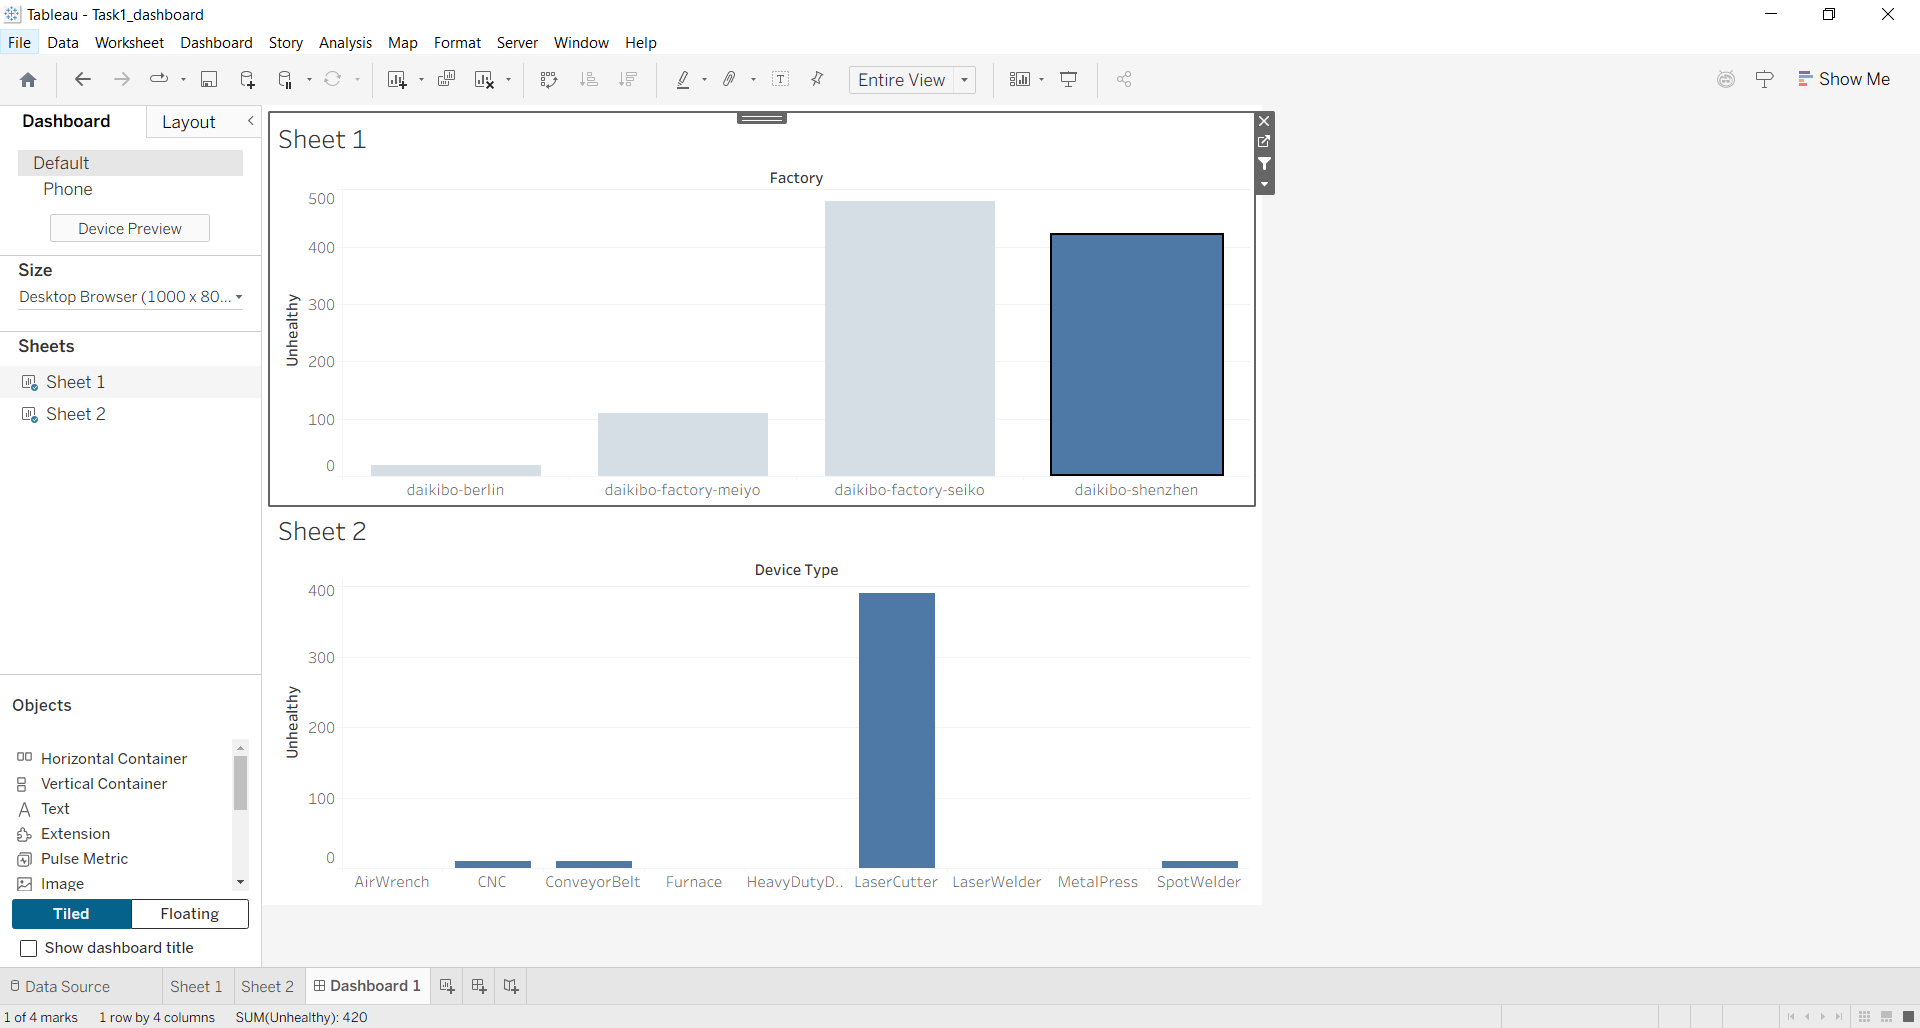

Layout of this report page (visuals, bound fields, positions):
{"tool":"tableau","page":{"name":"Dashboard 1","canvas":[1000,800],"ordinal":0},"visuals":[{"type":"worksheet","title":"Sheet 1","mark":"Automatic","rows":["Calculation_1049778714918912"],"cols":["factory"],"box":[8,8,984,392]},{"type":"worksheet","title":"Sheet 2","mark":"Automatic","rows":["Calculation_1049778714918912"],"cols":["deviceType"],"box":[8,400,984,392]}]}

Visuals, with their boxes on the page's 1000x800 design canvas (x1, y1, x2, y2). These are canvas units, not pixel positions in the 1920x1028 screenshot, which may show the page scaled, cropped or inside an application window:
"Sheet 1" worksheet: bbox=[8, 8, 992, 400]
"Sheet 2" worksheet: bbox=[8, 400, 992, 792]
